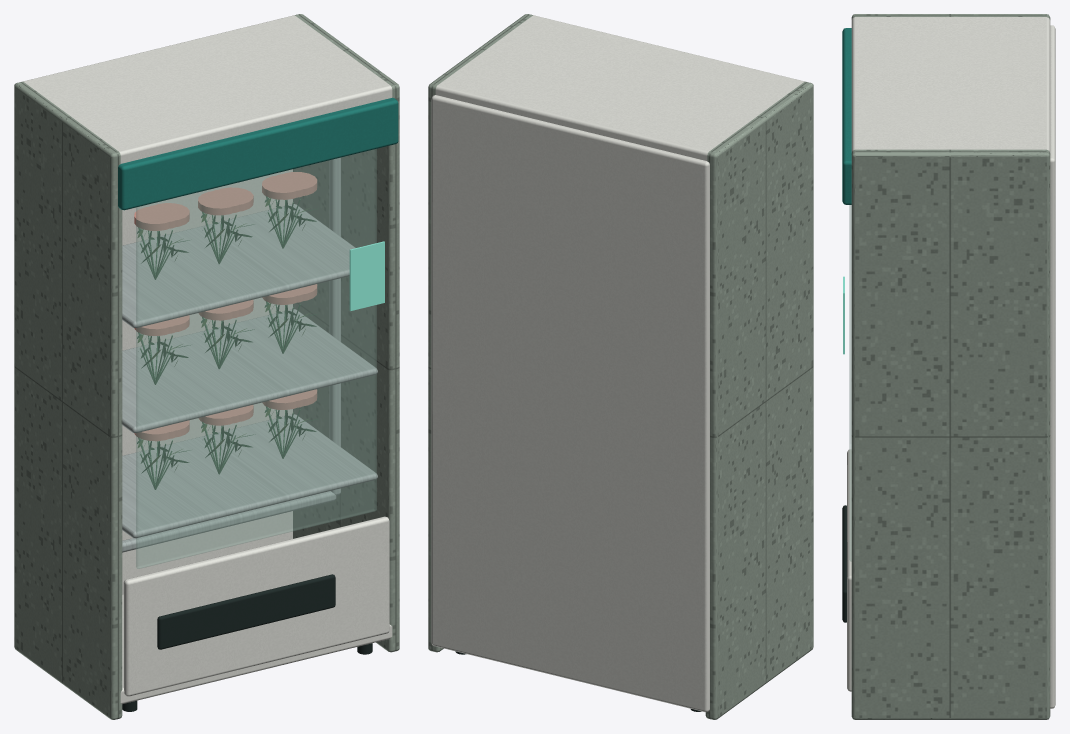
File: detail-flower-cabinet-1.glb
The picture shows the model from 3 angles, left to right: view 1: azimuth 30°, elevation 25°; view 2: azimuth 150°, elevation 25°; view 3: azimuth 270°, elevation 25°; orthographic projection.
Visible parts, largest first — view 1: cabinet_side (×2), display_glass, shelf (×3), cabinet_cap (×2), lower_door, header, cabinet_back, pickup_opening, frame_rail, frame_side, flower_petals (×3), label_payment_screen; view 2: cabinet_back, cabinet_side (×2), cabinet_cap; view 3: cabinet_side (×2), cabinet_cap, cabinet_back, header, lower_door, display_glass, pickup_opening.
Part boxes in pixels (bbox=[...]): cabinet_side (×2): bbox=[14, 14, 399, 719]; display_glass: bbox=[136, 149, 376, 568]; shelf (×3): bbox=[122, 204, 377, 538]; cabinet_cap (×2): bbox=[23, 15, 392, 703]; lower_door: bbox=[123, 516, 389, 696]; header: bbox=[118, 97, 398, 210]; cabinet_back: bbox=[122, 169, 292, 594]; pickup_opening: bbox=[157, 574, 335, 649]; frame_rail: bbox=[122, 491, 336, 552]; frame_side: bbox=[329, 157, 340, 495]; flower_petals (×3): bbox=[134, 175, 303, 230]; label_payment_screen: bbox=[349, 241, 384, 310]; cabinet_back: bbox=[431, 95, 709, 712]; cabinet_side (×2): bbox=[428, 14, 813, 719]; cabinet_cap: bbox=[435, 15, 804, 160]; cabinet_side (×2): bbox=[851, 14, 1050, 719]; cabinet_cap: bbox=[851, 17, 1050, 152]; cabinet_back: bbox=[1050, 25, 1055, 708]; header: bbox=[842, 28, 851, 204]; lower_door: bbox=[847, 449, 851, 691]; display_glass: bbox=[849, 205, 851, 561]; pickup_opening: bbox=[842, 505, 846, 622].
Size of the model in its own units: 1.1 by 2.05 by 0.6975.
10 materials, 8 textured.
